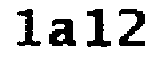1: (81, 2, 111, 53), (13, 6, 43, 53)
2: (113, 3, 146, 48)
a: (46, 15, 78, 50)
